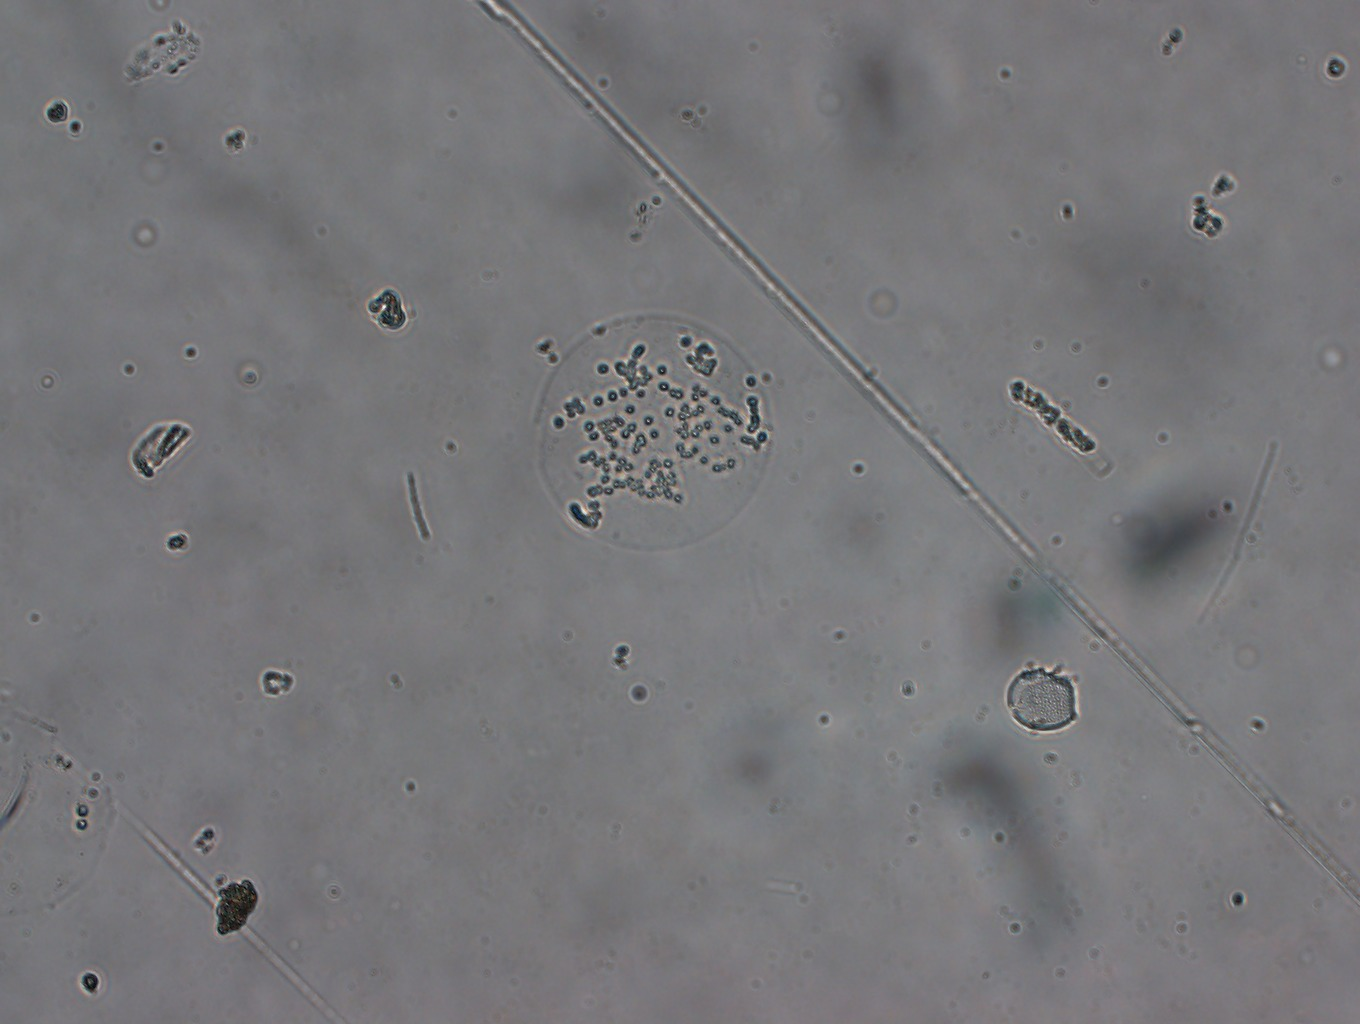coscinodiscus: (534, 310, 773, 547)
